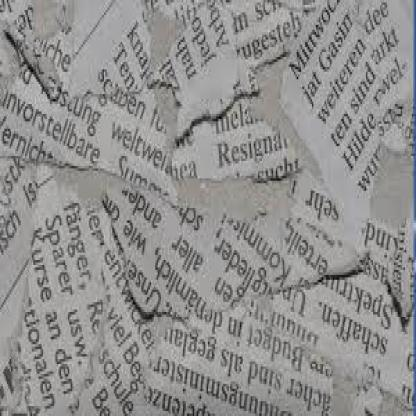paper: (0, 0, 415, 414), (101, 184, 334, 320), (278, 0, 414, 206), (134, 310, 332, 414), (180, 92, 305, 176), (359, 218, 412, 309)
